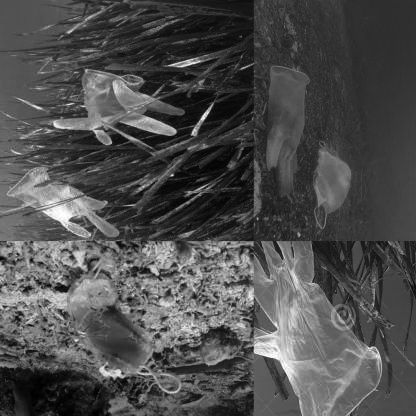Mask: (64, 257, 182, 395), (314, 140, 353, 230)
glove: (254, 241, 395, 416), (47, 65, 184, 148), (4, 164, 125, 240), (263, 67, 308, 203)
